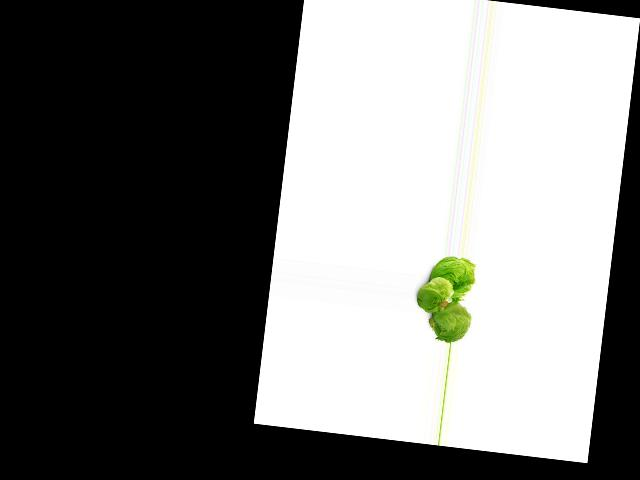lettuce: (431, 256, 474, 297)
